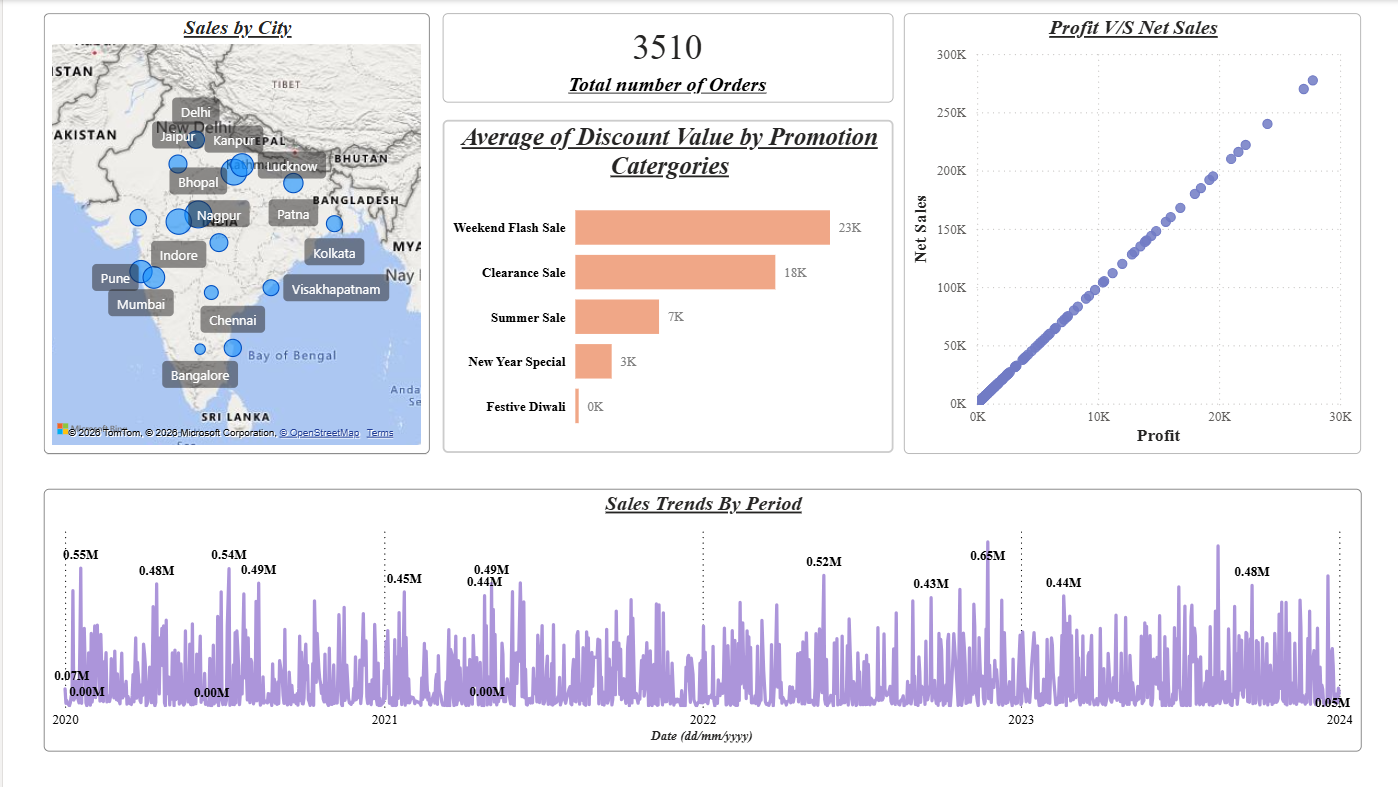

Layout of this report page (visuals, bound fields, positions):
{"tool":"powerbi","page":{"name":"Overview","canvas":[1280,720],"ordinal":0},"visuals":[{"type":"lineChart","title":"Sales Trends By  Period","fields":{"Y":["Sum(Fact Table.Total Sales)"],"Category":["Fact Table.Date (dd/mm/yyyy).Variation.Date Hierarchy.Year"]},"box":[37.1,446.6,1205.4,240.6],"z":0},{"type":"scatterChart","title":"Profit V/S Net Sales","fields":{"X":["Fact Table.Profit"],"Y":["Fact Table.Net Sales"]},"box":[824.1,11.5,418.4,403.1],"z":1000},{"type":"barChart","title":"Average of Discount Value by Promotion Catergories","fields":{"Y":["Avg(Fact Table.Discount Value)"],"Category":["Dim Promotion.Promotion Name"]},"box":[401.8,110,412,304.6],"z":2000},{"type":"map","title":"Sales by City","fields":{"Category":["Dim Customers.City"],"Size":["Sum(Fact Table.Net Sales)"]},"box":[37.1,11.5,353.2,403.1],"z":3000},{"type":"card","fields":{"Values":["CountNonNull(Fact Table.Order ID)"]},"box":[401.8,11.5,412,81.9],"z":4000}]}

Visuals, with their boxes in screenshot pixels (x1, y1, x2, y2), scaled from the page's 1280x720 canvas onto the 1398x787 screenshot:
"Sales Trends By  Period" lineChart: 41,488,1357,751
"Profit V/S Net Sales" scatterChart: 900,13,1357,453
"Average of Discount Value by Promotion Catergories" barChart: 439,120,889,453
"Sales by City" map: 41,13,426,453
card - CountNonNull(Fact Table.Order ID): 439,13,889,102
